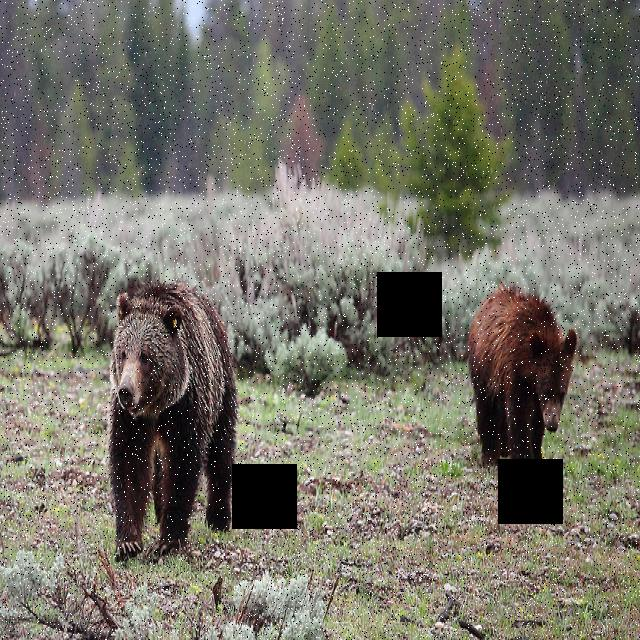Bear: (106, 280, 238, 564), (469, 278, 581, 490)
